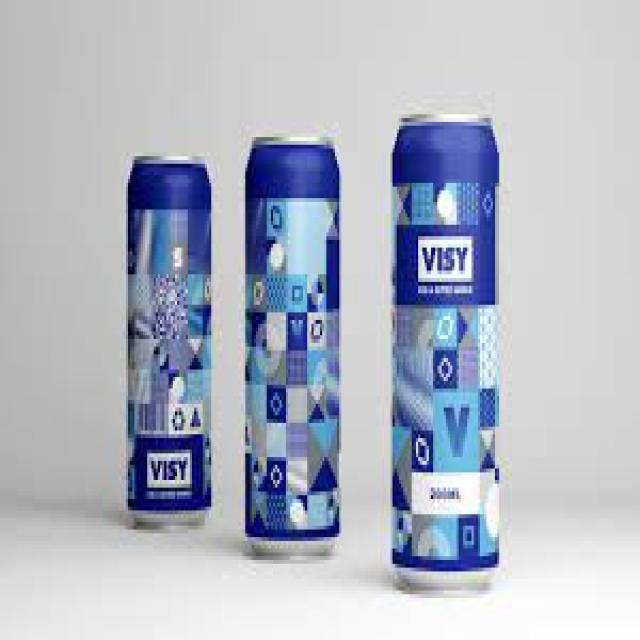Cans: (382, 96, 508, 594), (241, 122, 348, 564), (122, 141, 220, 533)
